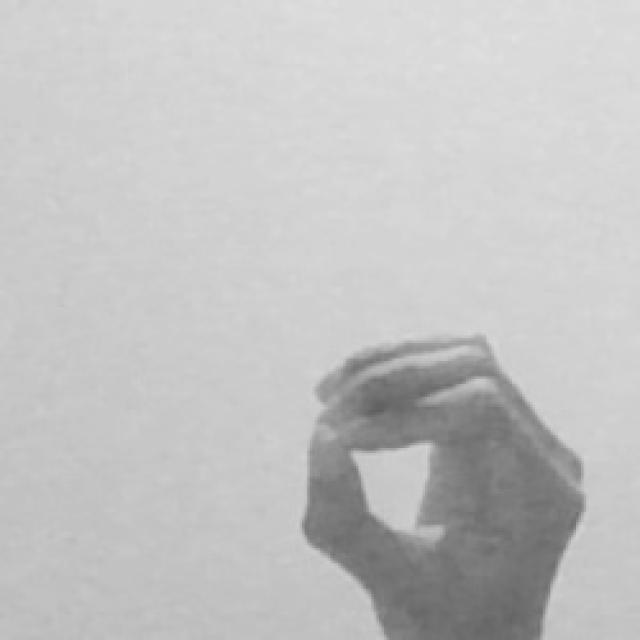O: (297, 325, 592, 640)
